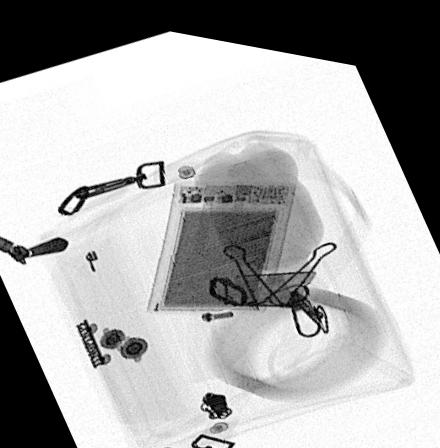Powerbank: (147, 173, 295, 307)
